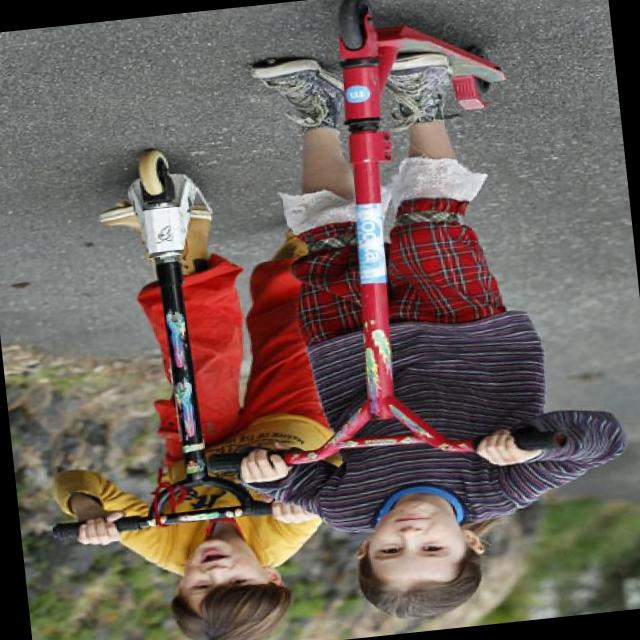bareface: (341, 484, 498, 630), (156, 534, 300, 640)
